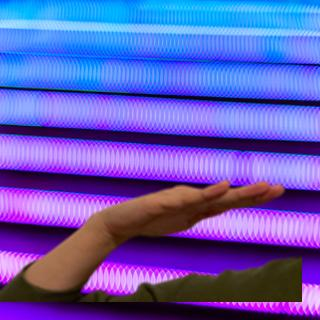WAIT: (102, 176, 290, 244)
